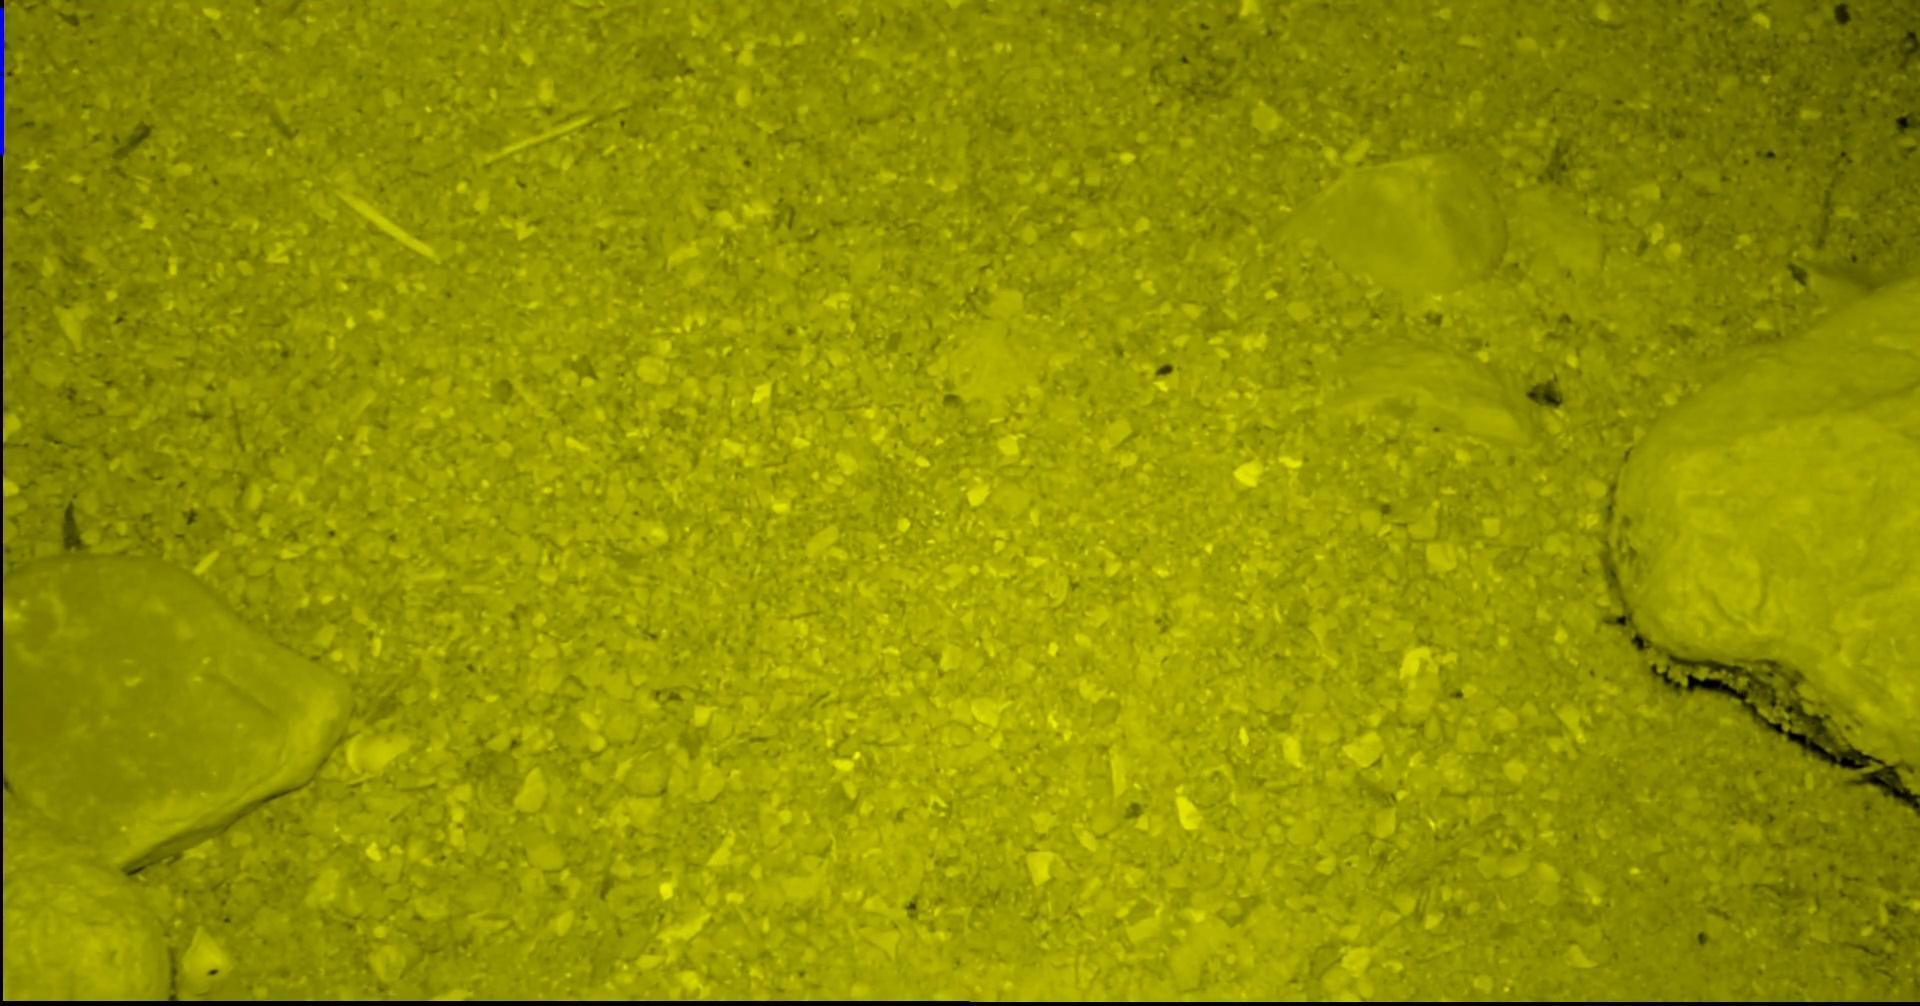ant: (0, 6, 4, 155)
